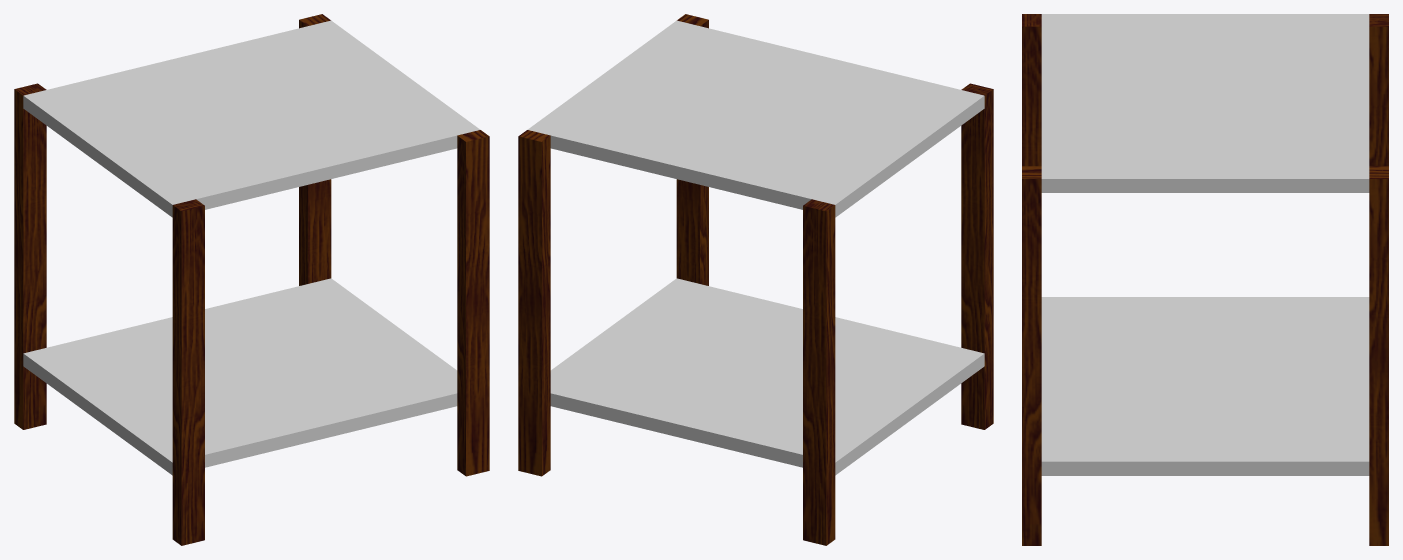
Rendered from MesitaCocina.fbx.
3 views of the same model, side by side, from view 1: azimuth 30°, elevation 25°; view 2: azimuth 150°, elevation 25°; view 3: azimuth 270°, elevation 25° (orthographic). The views are drawn at different scales.
Parts seen in each view (by area): view 1: mesita_cocina; view 2: mesita_cocina; view 3: mesita_cocina.
Part boxes in pixels (x1=…): mesita_cocina: x1=14, y1=14, x2=489, y2=545; mesita_cocina: x1=518, y1=14, x2=993, y2=545; mesita_cocina: x1=1022, y1=14, x2=1388, y2=545.
Size of the model in its own units: 50 by 51.9 by 47.
